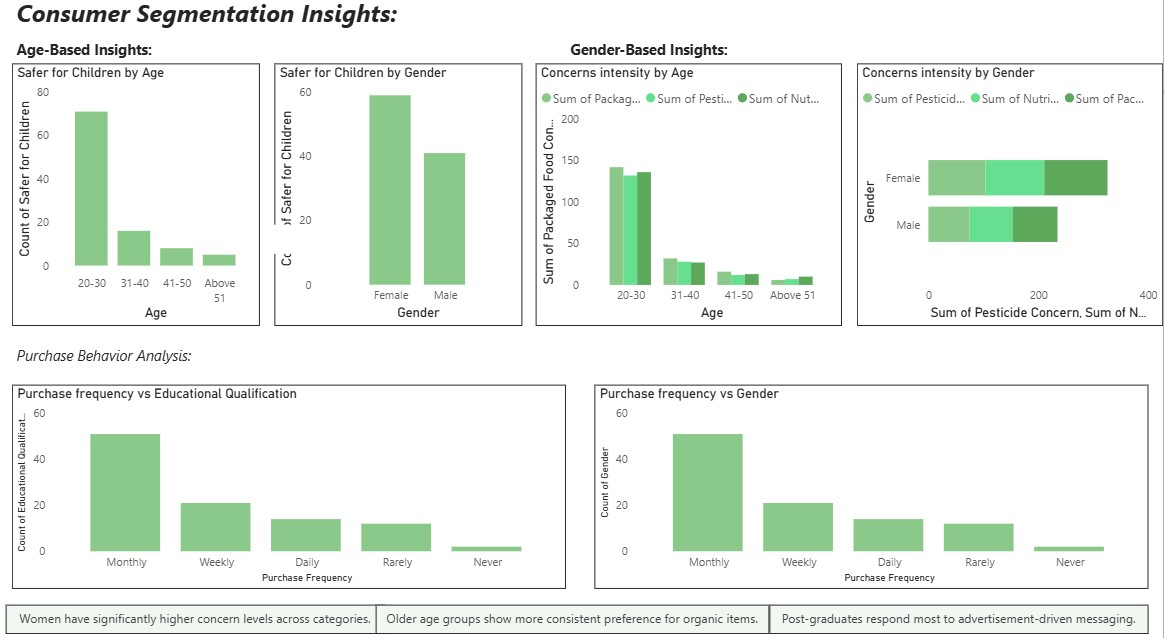

What the dashboard file says about the page in this screenshot:
{"tool":"powerbi","page":{"name":"Consumer Segmentation Insights","canvas":[1280,720],"ordinal":1},"visuals":[{"type":"columnChart","title":"Safer for Children by Gender","fields":{"Category":["Behavioral Study – Organic Food Advertising - main.Gender"],"Y":["CountNonNull(Behavioral Study – Organic Food Advertising - main.Safer for Children)"]},"box":[304,80,272,288],"z":0},{"type":"textbox","box":[16,0,528,48],"z":1000},{"type":"textbox","box":[624,48,272,32],"z":2000},{"type":"textbox","box":[16,48,192,32],"z":3000},{"type":"barChart","title":"Concerns intensity by Gender","fields":{"Y":["Sum(Behavioral Study – Organic Food Advertising - main.Pesticide Concern)","Sum(Behavioral Study – Organic Food Advertising - main.Nutrition Concern)","Sum(Behavioral Study – Organic Food Advertising - main.Packaged Food Concern)"],"Category":["Behavioral Study – Organic Food Advertising - main.Gender"]},"box":[944,80,336,288],"z":4000},{"type":"clusteredColumnChart","title":"Concerns intensity by Age","fields":{"Y":["Sum(Behavioral Study – Organic Food Advertising - main.Packaged Food Concern)","Sum(Behavioral Study – Organic Food Advertising - main.Pesticide Concern)","Sum(Behavioral Study – Organic Food Advertising - main.Nutrition Concern)"],"Category":["Behavioral Study – Organic Food Advertising - main.Age"]},"box":[592,80,336,288],"z":5000},{"type":"textbox","box":[16,256,384,32],"z":6000},{"type":"clusteredColumnChart","title":"Purchase frequency vs Educational Qualification","fields":{"Category":["Behavioral Study – Organic Food Advertising - main.Purchase Frequency"],"Y":["CountNonNull(Behavioral Study – Organic Food Advertising - main.Educational Qualification)"]},"box":[16,432,608,224],"z":7000},{"type":"clusteredColumnChart","title":"Purchase frequency vs Gender","fields":{"Category":["Behavioral Study – Organic Food Advertising - main.Purchase Frequency"],"Y":["CountNonNull(Behavioral Study – Organic Food Advertising - main.Gender)"]},"box":[656,432,608,224],"z":8000},{"type":"textbox","box":[16,384,320,32],"z":9000},{"type":"textbox","box":[9.5,673.5,416,32],"z":10000},{"type":"textbox","box":[415.4,673.9,432,32],"z":11000},{"type":"textbox","box":[847.4,673.9,416,32],"z":12000},{"type":"columnChart","title":"Safer for Children by Age","fields":{"Y":["CountNonNull(Behavioral Study – Organic Food Advertising - main.Safer for Children)"],"Category":["Behavioral Study – Organic Food Advertising - main.Age"]},"box":[16,80,272,288],"z":13000}]}

Visuals, with their boxes in screenshot pixels (x1, y1, x2, y2), scaled from the page's 1280x720 canvas onto the 1165x638 screenshot:
"Safer for Children by Gender" columnChart: box(277, 71, 524, 326)
textbox: box(15, 0, 495, 43)
textbox: box(568, 43, 816, 71)
textbox: box(15, 43, 189, 71)
"Concerns intensity by Gender" barChart: box(859, 71, 1164, 326)
"Concerns intensity by Age" clusteredColumnChart: box(539, 71, 845, 326)
textbox: box(15, 227, 364, 255)
"Purchase frequency vs Educational Qualification" clusteredColumnChart: box(15, 383, 568, 581)
"Purchase frequency vs Gender" clusteredColumnChart: box(597, 383, 1150, 581)
textbox: box(15, 340, 306, 369)
textbox: box(9, 597, 387, 625)
textbox: box(378, 597, 771, 626)
textbox: box(771, 597, 1150, 626)
"Safer for Children by Age" columnChart: box(15, 71, 262, 326)
